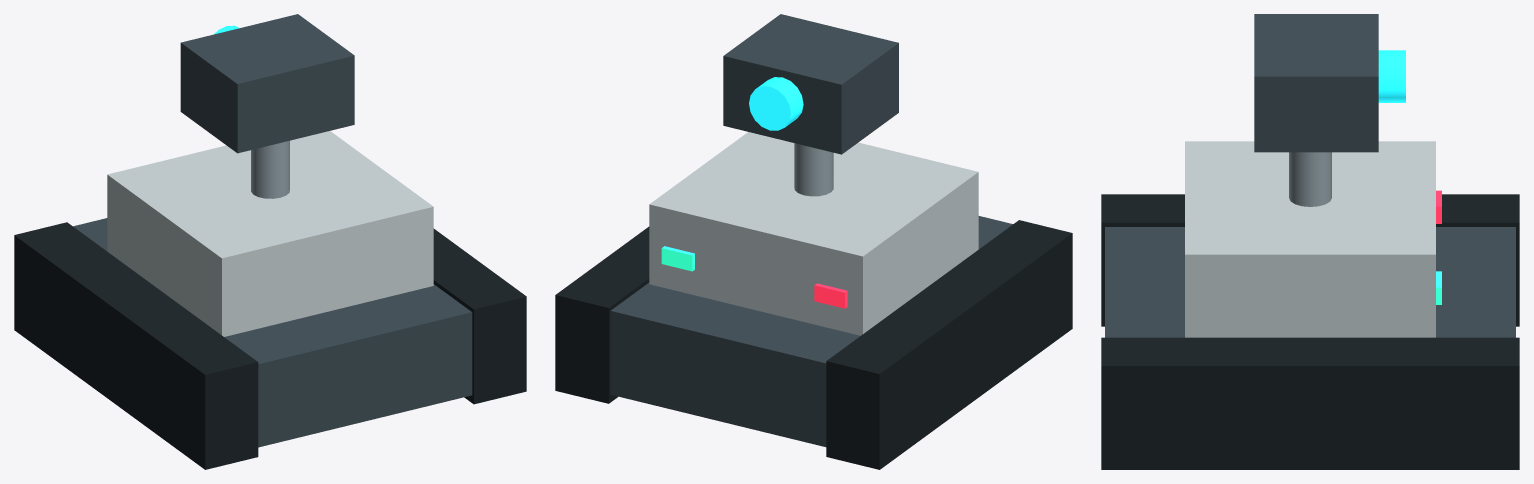
Rendered from robot.glb.
The picture shows the model from 3 angles, left to right: view 1: azimuth 30°, elevation 25°; view 2: azimuth 150°, elevation 25°; view 3: azimuth 270°, elevation 25°; orthographic projection. The views are drawn at different scales.
Visible parts, largest first — view 1: robot-3, robot-1, robot-0, robot-5, robot-2, robot-4; view 2: robot-3, robot-1, robot-0, robot-5, robot-2, robot-6, robot-4, robot-7, robot-8; view 3: robot-2, robot-3, robot-0, robot-5, robot-1, robot-4, robot-6.
Boxes of the visible parts, x1=… form: robot-3: x1=107, y1=131, x2=433, y2=336; robot-1: x1=14, y1=222, x2=258, y2=469; robot-0: x1=73, y1=218, x2=472, y2=447; robot-5: x1=180, y1=14, x2=354, y2=153; robot-2: x1=433, y1=228, x2=526, y2=404; robot-4: x1=251, y1=140, x2=289, y2=198; robot-3: x1=649, y1=132, x2=978, y2=335; robot-1: x1=826, y1=220, x2=1072, y2=469; robot-0: x1=610, y1=216, x2=1012, y2=446; robot-5: x1=723, y1=14, x2=898, y2=154; robot-2: x1=555, y1=226, x2=649, y2=403; robot-6: x1=749, y1=77, x2=803, y2=130; robot-4: x1=794, y1=143, x2=833, y2=196; robot-7: x1=814, y1=283, x2=847, y2=308; robot-8: x1=661, y1=246, x2=694, y2=271; robot-2: x1=1101, y1=337, x2=1519, y2=469; robot-3: x1=1185, y1=141, x2=1435, y2=337; robot-0: x1=1105, y1=227, x2=1515, y2=337; robot-5: x1=1254, y1=14, x2=1378, y2=152; robot-1: x1=1101, y1=194, x2=1519, y2=326; robot-4: x1=1289, y1=152, x2=1331, y2=206; robot-6: x1=1378, y1=50, x2=1405, y2=102.
Bounding box in the file's own units: 3.4 × 3.13 × 3.5.
